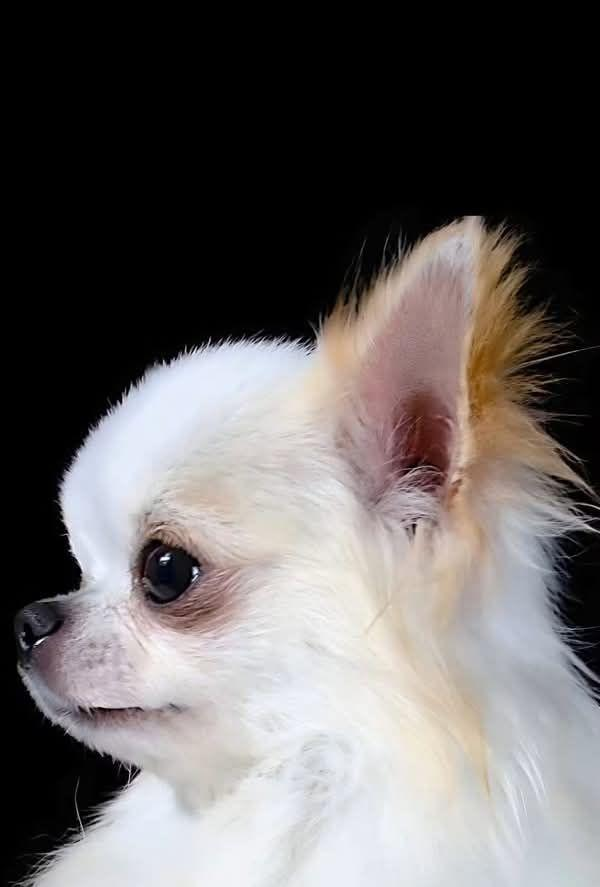puppy-dog: (12, 208, 600, 887)
